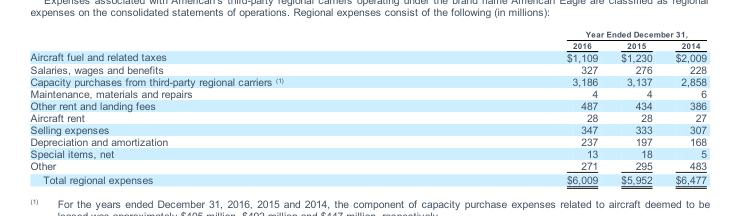table: (29, 29, 706, 185)
table column: (29, 29, 424, 185), (424, 29, 608, 185), (608, 29, 663, 185), (663, 29, 706, 185)
table column header: (29, 29, 706, 49)
table row: (29, 49, 706, 63), (29, 158, 706, 172), (29, 172, 706, 185), (29, 63, 706, 75), (29, 75, 706, 87), (29, 87, 706, 99), (29, 99, 706, 111), (29, 111, 706, 123), (29, 134, 706, 146), (29, 146, 706, 158), (29, 123, 706, 134), (29, 29, 706, 39), (29, 39, 706, 49)
table spanning cell: (424, 29, 706, 39)
